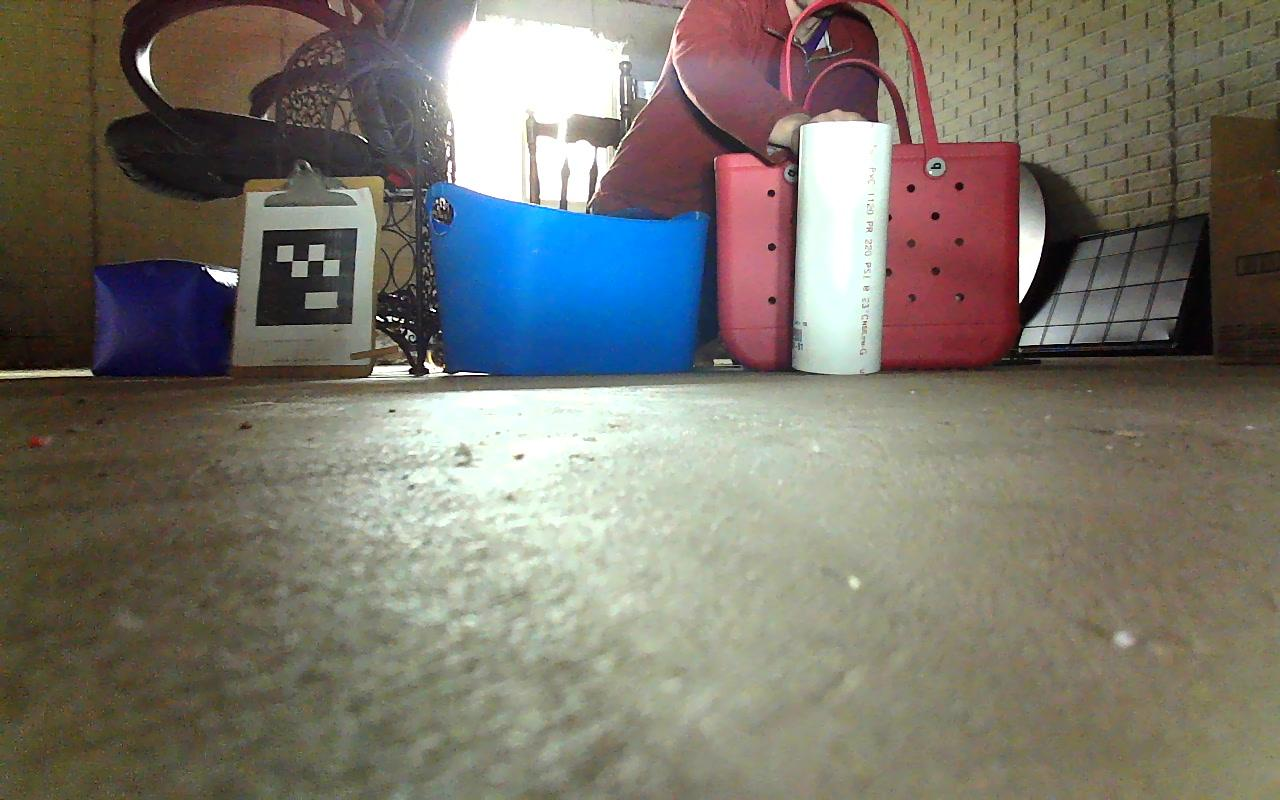coral: (790, 115, 899, 380)
